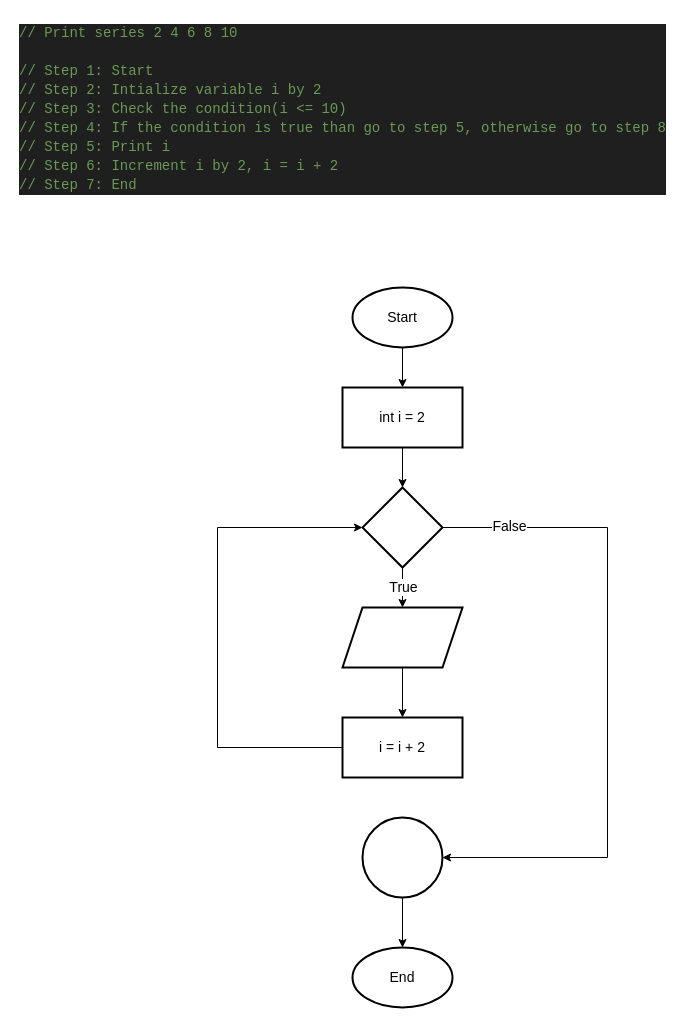
The diagram is 683 pixels wide and 1025 high, and some of its shapes have lost their labels. The centre of each missing label's shape, as x and y in pixels:
"i <= 10" goes at (402,527).
"Print i" goes at (402,637).
